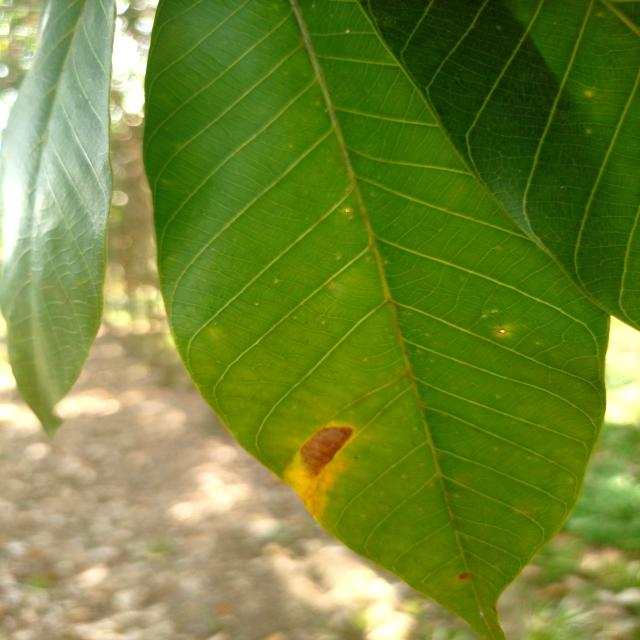Colletotrichum: (498, 328, 507, 335)
Leaf-Blight: (280, 424, 354, 520)
